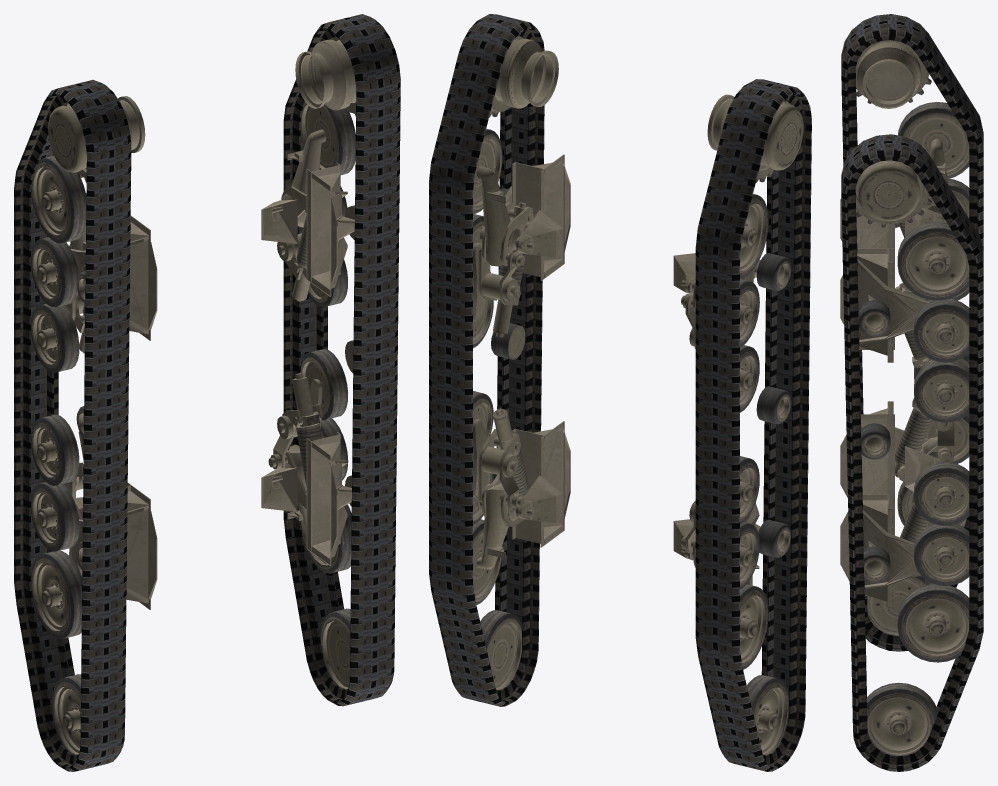
File: Chassis.glb
3 renders of one model, left to right at view 1: azimuth 30°, elevation 25°; view 2: azimuth 150°, elevation 25°; view 3: azimuth 270°, elevation 25°, orthographic. The views are drawn at different scales.
Visible parts, largest first — view 1: set_2_group_0, set_3_group_0, set_0_group_0, set_1_group_0; view 2: set_2_group_0, set_3_group_0, set_0_group_0, set_1_group_0; view 3: set_0_group_0, set_3_group_0, set_1_group_0, set_2_group_0.
Boxes of the visible parts, left/top/right/bottom form: set_2_group_0: left=14, top=80, right=131, bottom=771; set_3_group_0: left=283, top=14, right=400, bottom=706; set_0_group_0: left=261, top=36, right=356, bottom=689; set_1_group_0: left=31, top=96, right=157, bottom=755; set_2_group_0: left=695, top=79, right=811, bottom=771; set_3_group_0: left=429, top=14, right=544, bottom=706; set_0_group_0: left=473, top=36, right=570, bottom=690; set_1_group_0: left=673, top=94, right=803, bottom=755; set_0_group_0: left=840, top=160, right=969, bottom=756; set_3_group_0: left=841, top=134, right=983, bottom=771; set_1_group_0: left=840, top=40, right=969, bottom=635; set_2_group_0: left=841, top=14, right=983, bottom=651.
Size of the model in its own units: 2.58 by 5.33 by 1.11.
4 materials, 4 textured.
